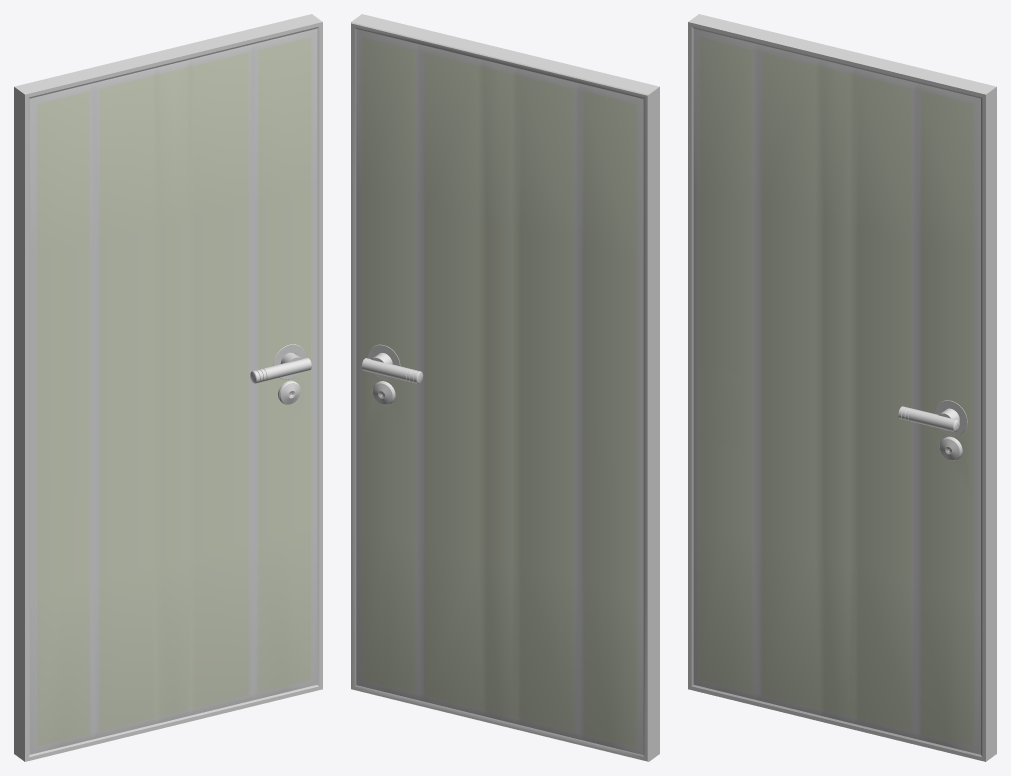
The model's file is door.fbx.
3 views of the same model, side by side, from view 1: azimuth 30°, elevation 25°; view 2: azimuth 150°, elevation 25°; view 3: azimuth 330°, elevation 25° (orthographic).
Visible parts, largest first — view 1: Door; view 2: Door; view 3: Door.
Boxes of the visible parts, x1=… form: Door: x1=14, y1=14, x2=322, y2=761; Door: x1=351, y1=14, x2=659, y2=761; Door: x1=688, y1=14, x2=996, y2=761.
Size of the model in its own units: 93.42 by 200 by 18.05.
